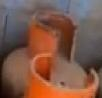cylinder: (0, 1, 102, 98)
